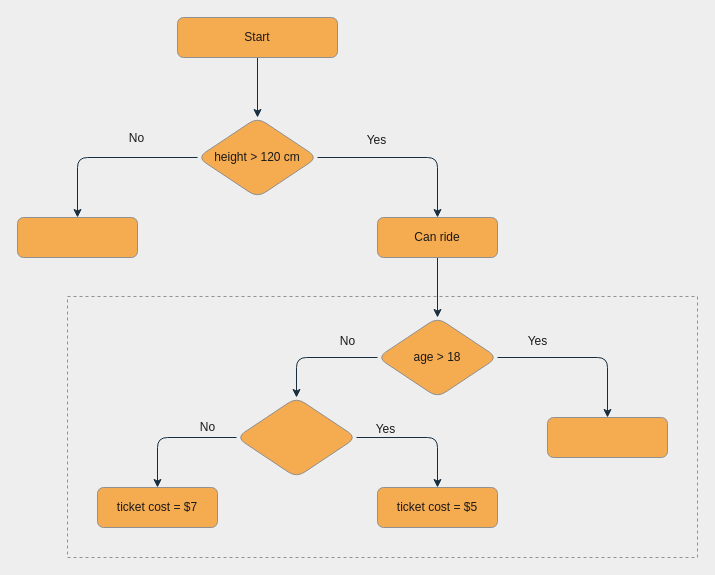
Some shapes in this 715 by 575 pixel diagram are drawn without their labels. Each missing label, with the box of its shape:
age < 12: (236, 396, 356, 478)
Cannot ride: (16, 216, 138, 258)
ticket cost = $12: (546, 416, 668, 458)
